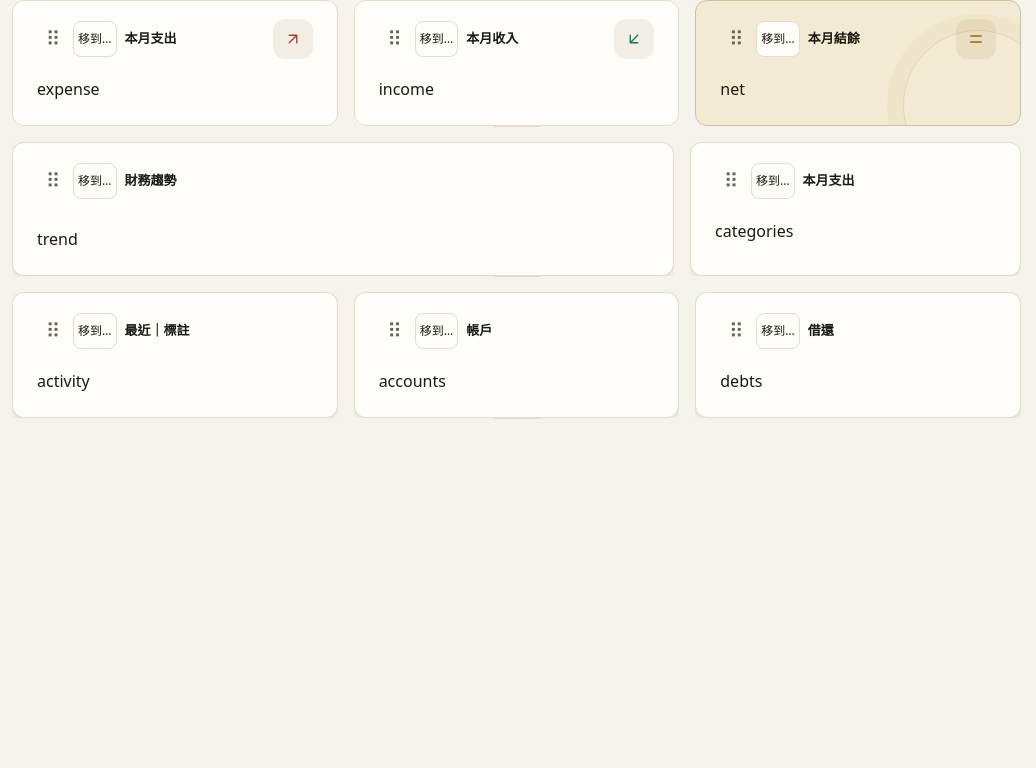
Scenario: HomeLayoutRenderer › closes the move menu after clicking outside it
Click the 1st button "移到…". click: (95, 39)
box: left=73, top=21, right=116, bottom=57
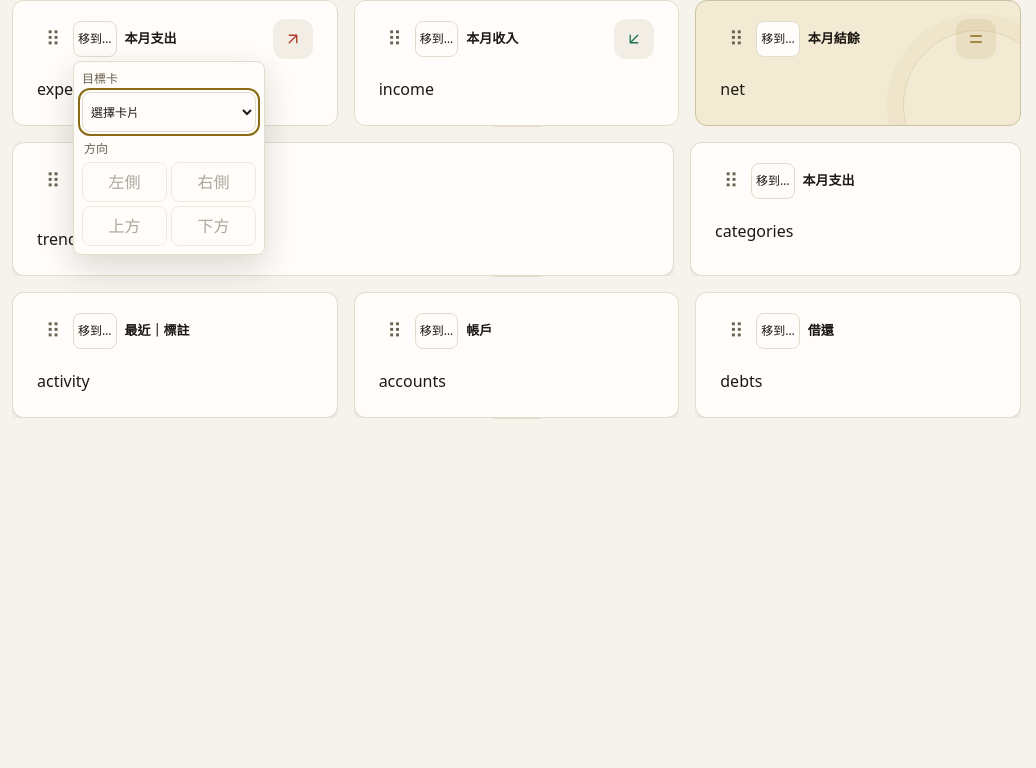
Expected: the dropdown labelled "目標卡" is shown, left=82, top=92, right=256, bottom=132
Click the element that starts with "移到…". click: (516, 722)
box: left=12, top=0, right=1021, bottom=767
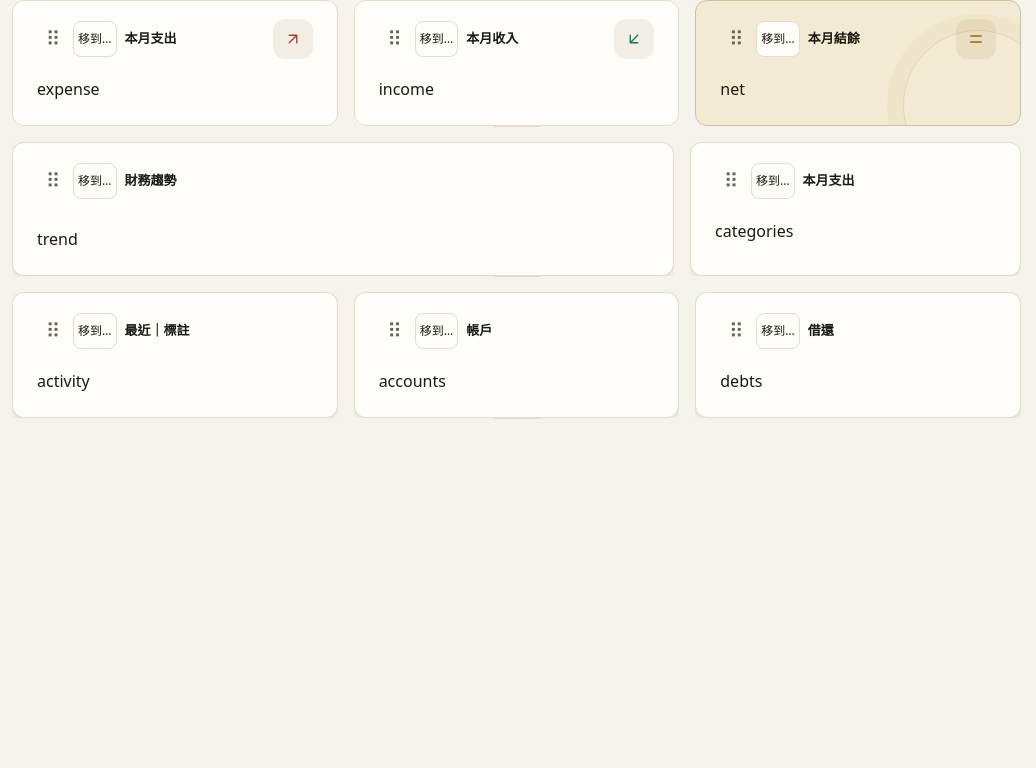
Expected: the text "目標卡" is gone
